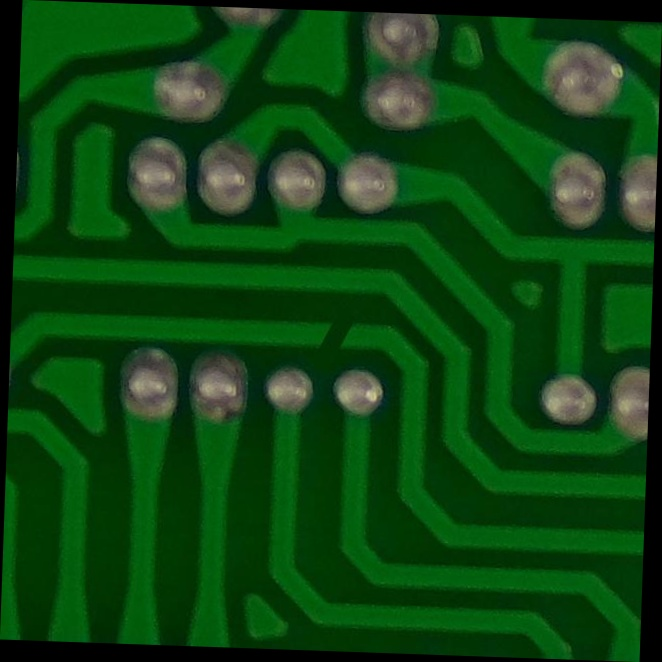open_circuit: (305, 303, 358, 360)
